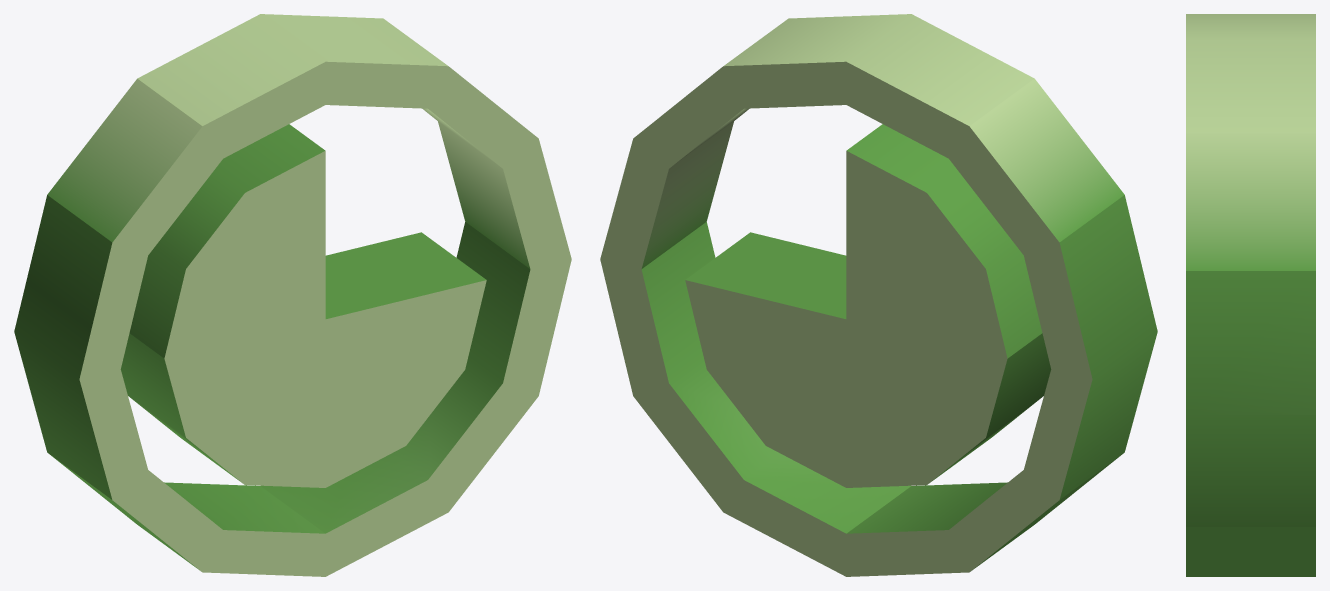
File: bonus-time.fbx
3 renders of one model, left to right at view 1: azimuth 30°, elevation 25°; view 2: azimuth 150°, elevation 25°; view 3: azimuth 270°, elevation 25°, orthographic.
Parts seen in each view (by area): view 1: bonus; view 2: bonus; view 3: bonus.
Boxes of the visible parts, x1,y1,x2,y2 form: bonus: (14, 14, 571, 576); bonus: (600, 14, 1157, 576); bonus: (1186, 14, 1315, 576).
Bounding box in the file's own units: 200 × 200 × 45.91.
